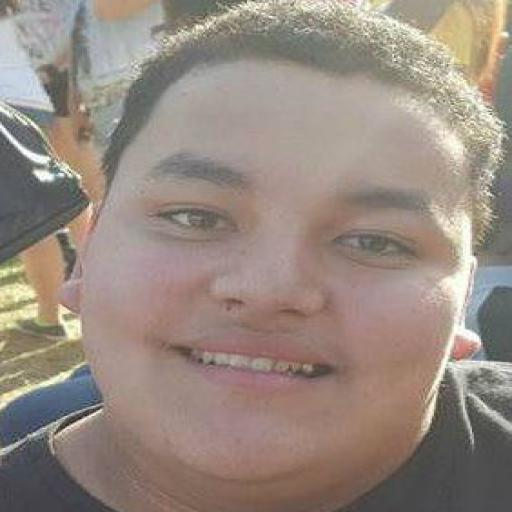Autism: (58, 7, 512, 512)
